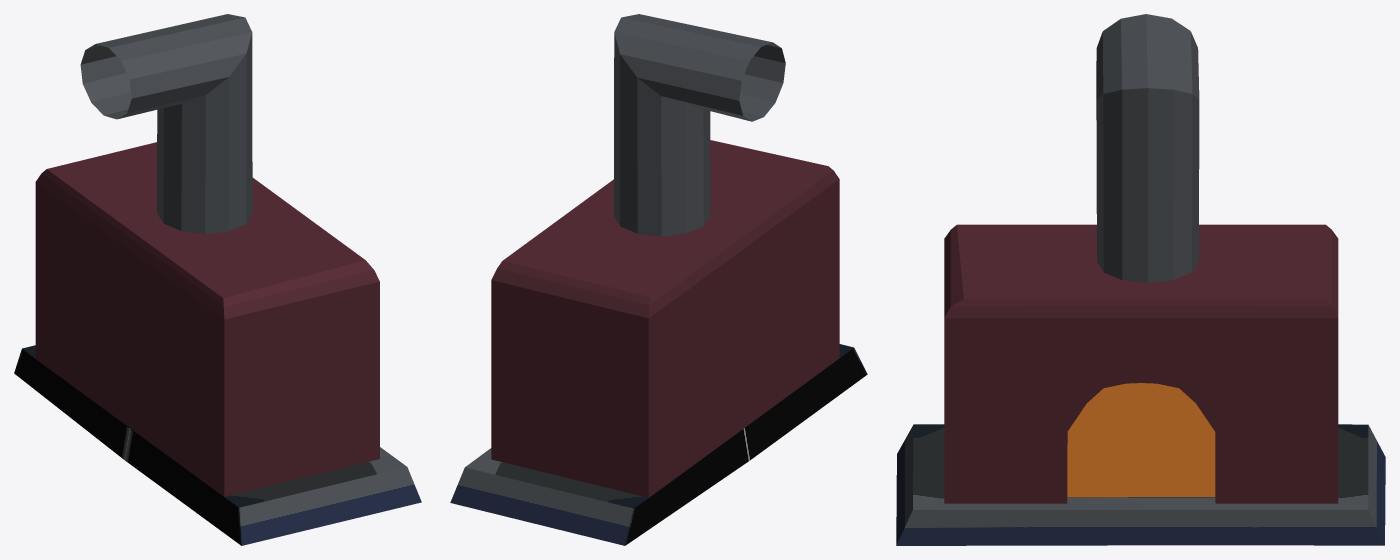
The model's file is come_in.fbx.
3 views of the same model, side by side, from view 1: azimuth 30°, elevation 25°; view 2: azimuth 150°, elevation 25°; view 3: azimuth 270°, elevation 25° (orthographic). The views are drawn at different scales.
Parts seen in each view (by area): view 1: Cylinder; view 2: Cylinder; view 3: Cylinder.
Part boxes in pixels (x1,y1,x2,y2): Cylinder: (14, 14, 421, 545); Cylinder: (450, 14, 867, 545); Cylinder: (896, 14, 1385, 545).
Bounding box in the file's own units: 84.35 × 169 × 173.
Materials: 2 (1 with a texture image).
